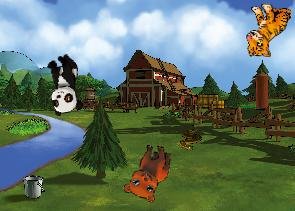bear: (121, 139, 173, 204)
panda: (43, 52, 84, 116)
tiger: (245, 2, 291, 57)
